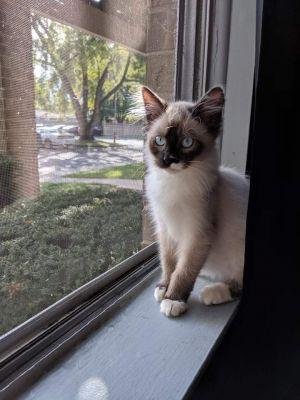siamese: (129, 71, 238, 189)
